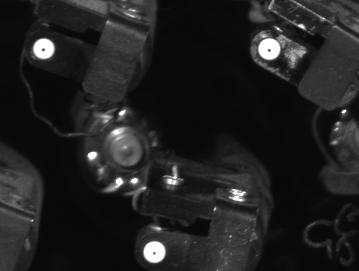fiber: (253, 35, 286, 64), (140, 236, 170, 267), (30, 35, 60, 62)
